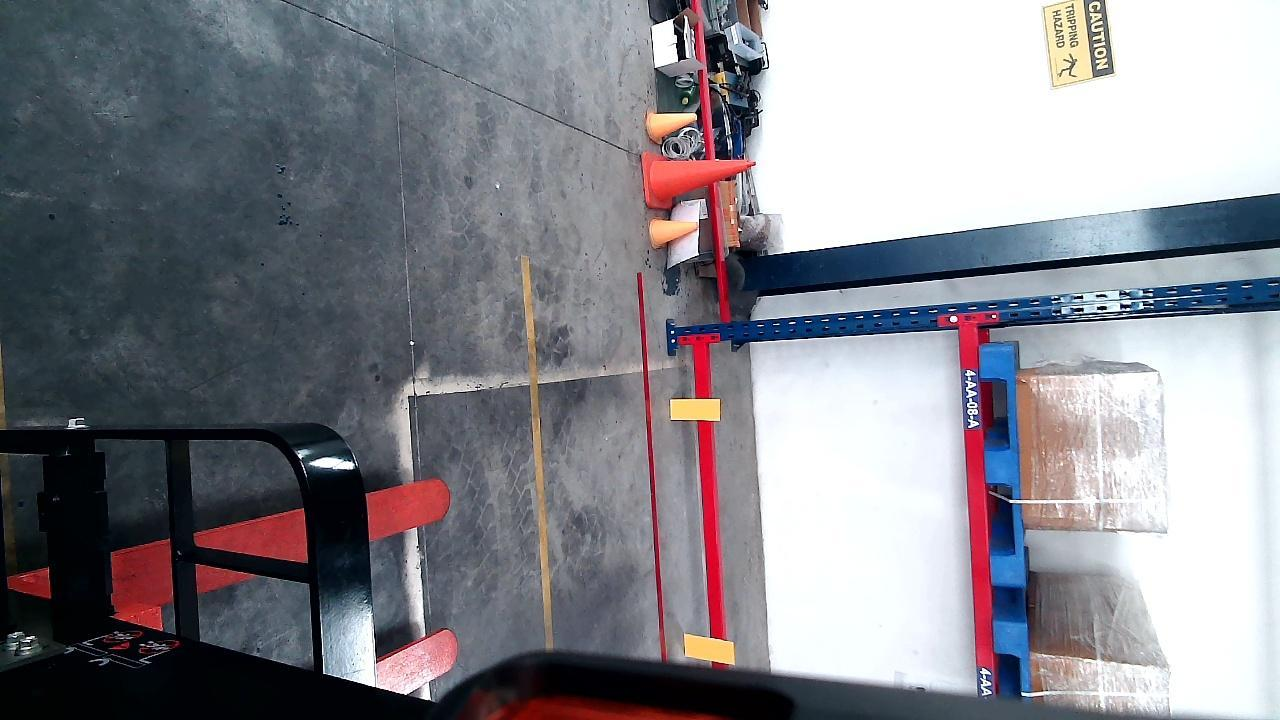red_line: (637, 271, 670, 654)
yellow_line: (526, 257, 554, 642)
